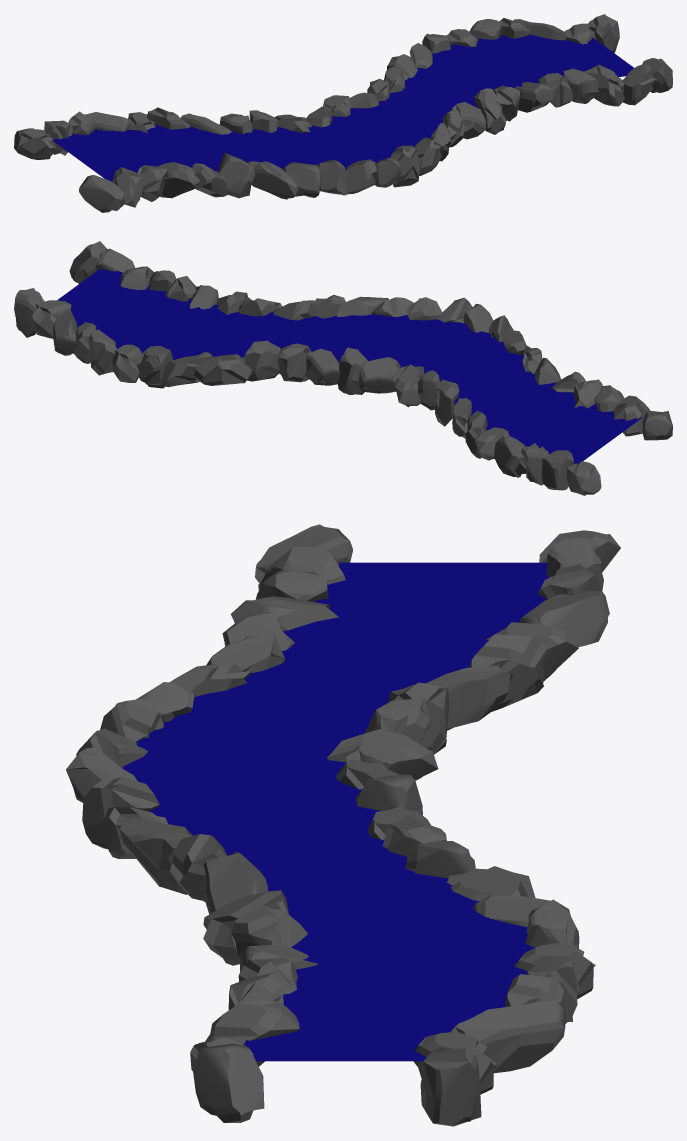
File: River1.obj
3 views of the same model, one above another, from view 1: azimuth 30°, elevation 25°; view 2: azimuth 150°, elevation 25°; view 3: azimuth 270°, elevation 25° (orthographic). The views are drawn at different scales.
Parts seen in each view (by area): view 1: River1 Rocks, Water River1; view 2: River1 Rocks, Water River1; view 3: Water River1, River1 Rocks.
Part boxes in pixels (left/top/right/bottom): River1 Rocks: left=14, top=14, right=672, bottom=212; Water River1: left=52, top=34, right=633, bottom=181; River1 Rocks: left=14, top=241, right=672, bottom=495; Water River1: left=57, top=269, right=642, bottom=463; Water River1: left=122, top=562, right=549, bottom=1061; River1 Rocks: left=66, top=524, right=620, bottom=1126.
Size of the model in its own units: 28.39 by 1.91 by 11.94.
